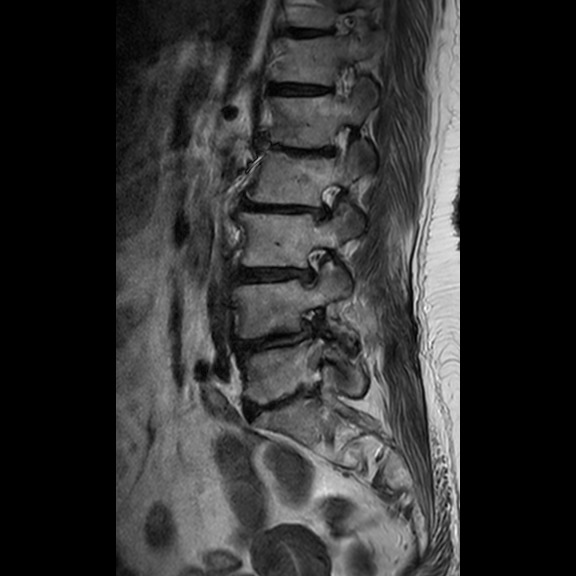RFS1: (300, 172, 345, 230), (289, 238, 333, 293)
